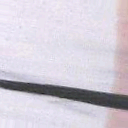crackTip: (1, 77, 128, 111)
